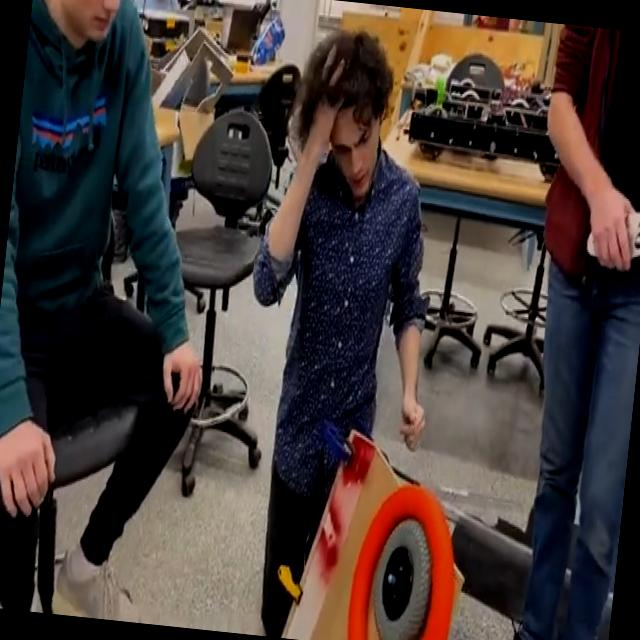note: (343, 475, 468, 640)
